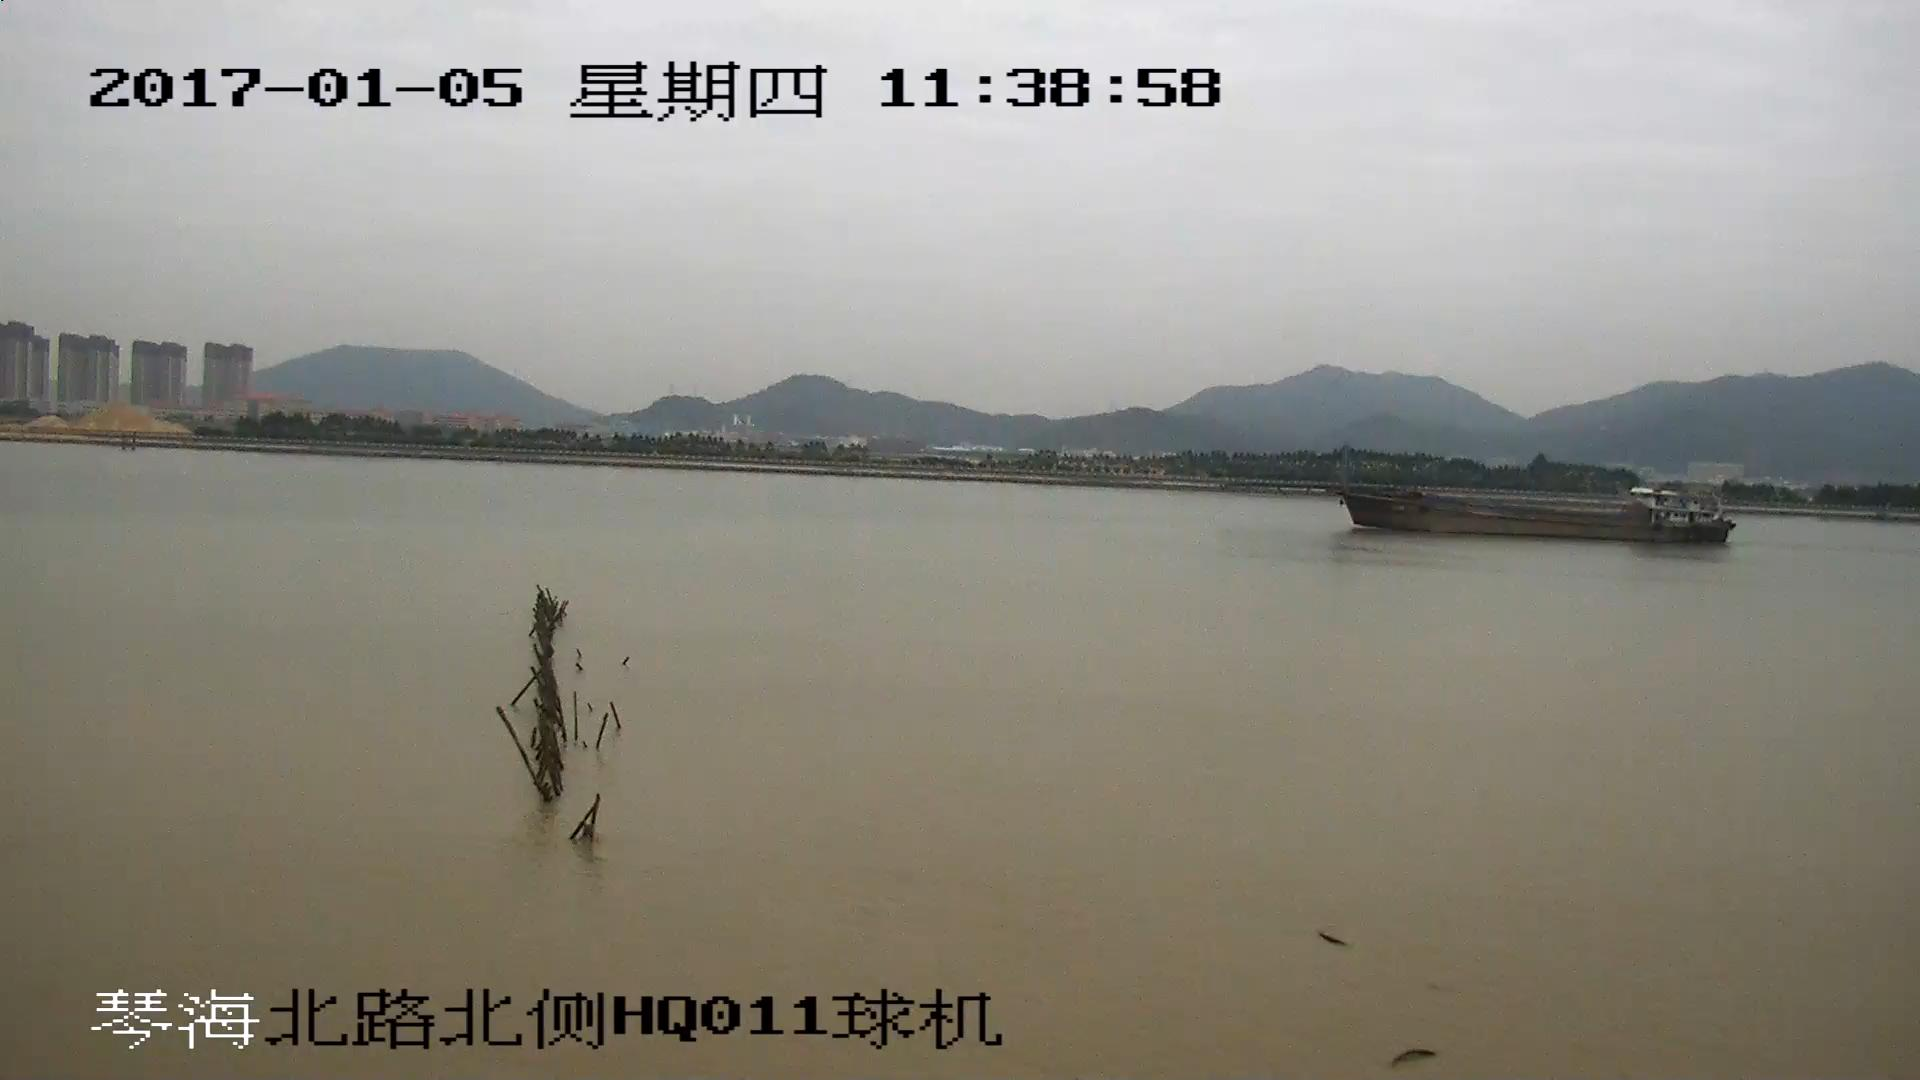bulk cargo carrier: (1253, 455, 1735, 548)
